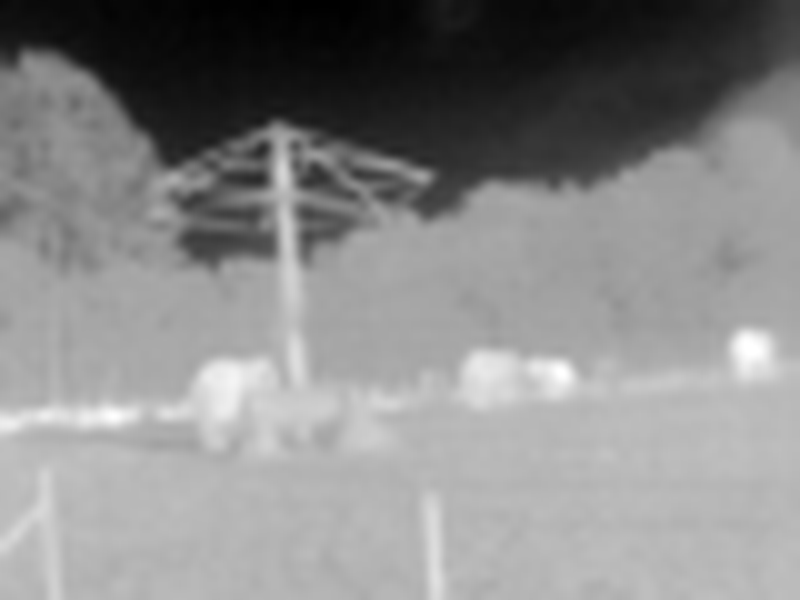elephant: (181, 358, 288, 456), (454, 338, 549, 411)
